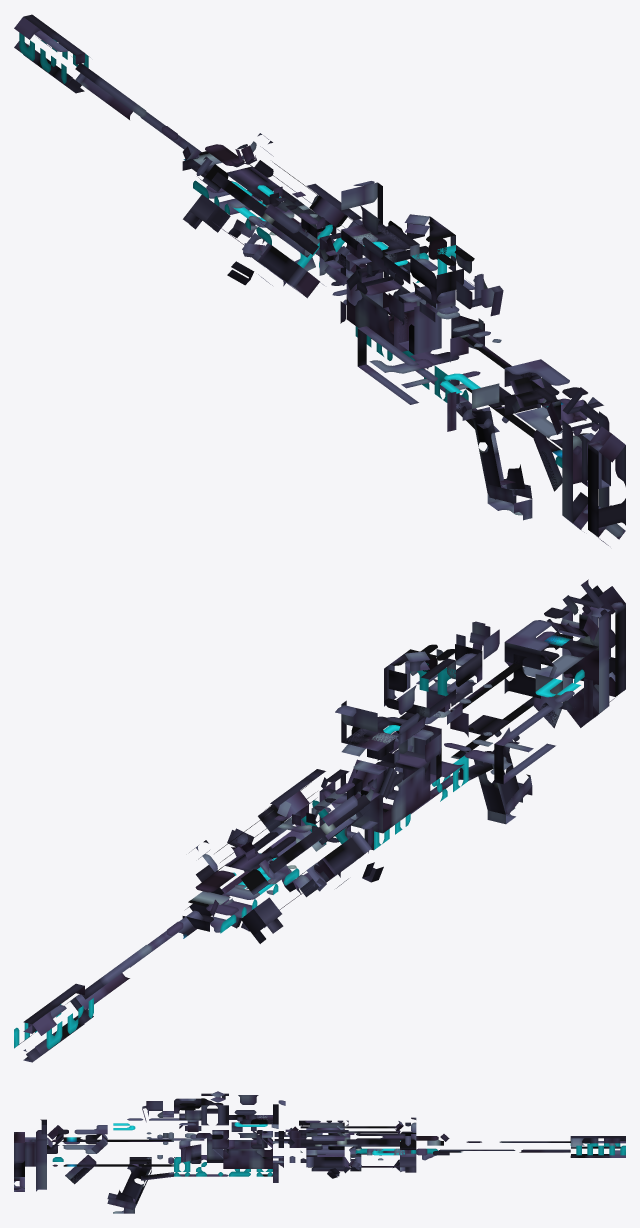
The model's file is kraber.obj.
3 views of the same model, one above another, from view 1: azimuth 30°, elevation 25°; view 2: azimuth 150°, elevation 25°; view 3: azimuth 270°, elevation 25° (orthographic). The views are drawn at different scales.
Visible parts, largest first — view 1: kraber; view 2: kraber; view 3: kraber.
Boxes of the visible parts, x1,y1,x2,y2 form: kraber: (14, 14, 625, 545); kraber: (14, 579, 625, 1062); kraber: (14, 1091, 625, 1213).
Bounding box in the file's own units: 0.5199 × 0.731 × 3.47.
